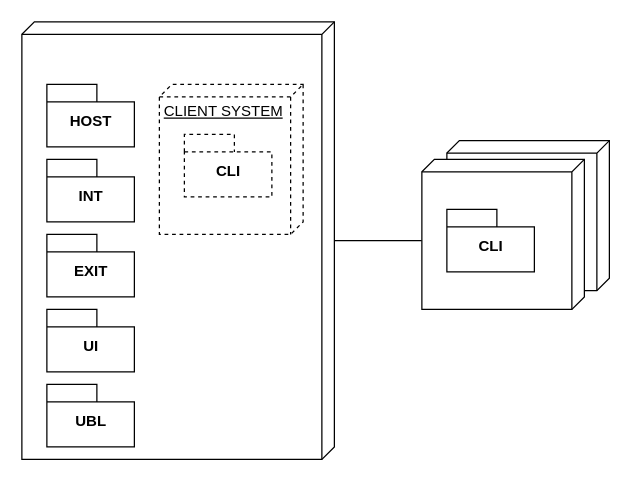
Some shapes in this 631 by 481 pixel diagram are drawn without their labels. The box of each missing label's shape, as (x1, y1, x2, y2) in pixels:
CLIENT SYSTEM(S): (421, 158, 584, 309)
HOST SYSTEM: (21, 21, 334, 459)
